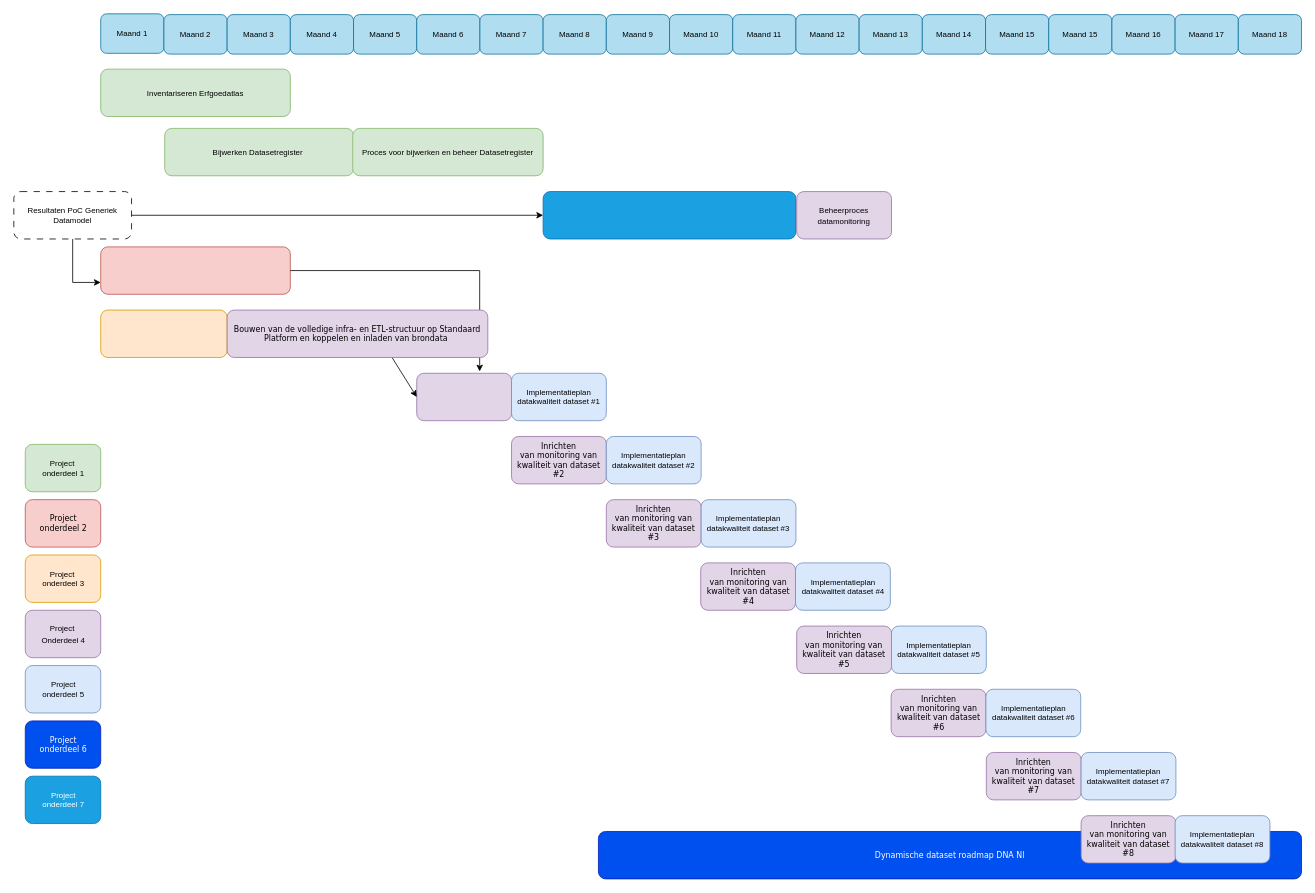
The diagram is 1315 pixels wide and 893 high, and some of its shapes have lost their labels. The centre of each missing label's shape, as x and y in pixels:
"Inrichten van monitoring van kwaliteit van dataset #1" goes at (464,396).
"MDM proces Generiek Datamodel" goes at (669,215).
"PvE Datakwaliteitsmonitoring" goes at (163,333).
"Richtlijnen (streven) en aansluitcriteria (eisen) voor DNA Nl" goes at (195,270).
